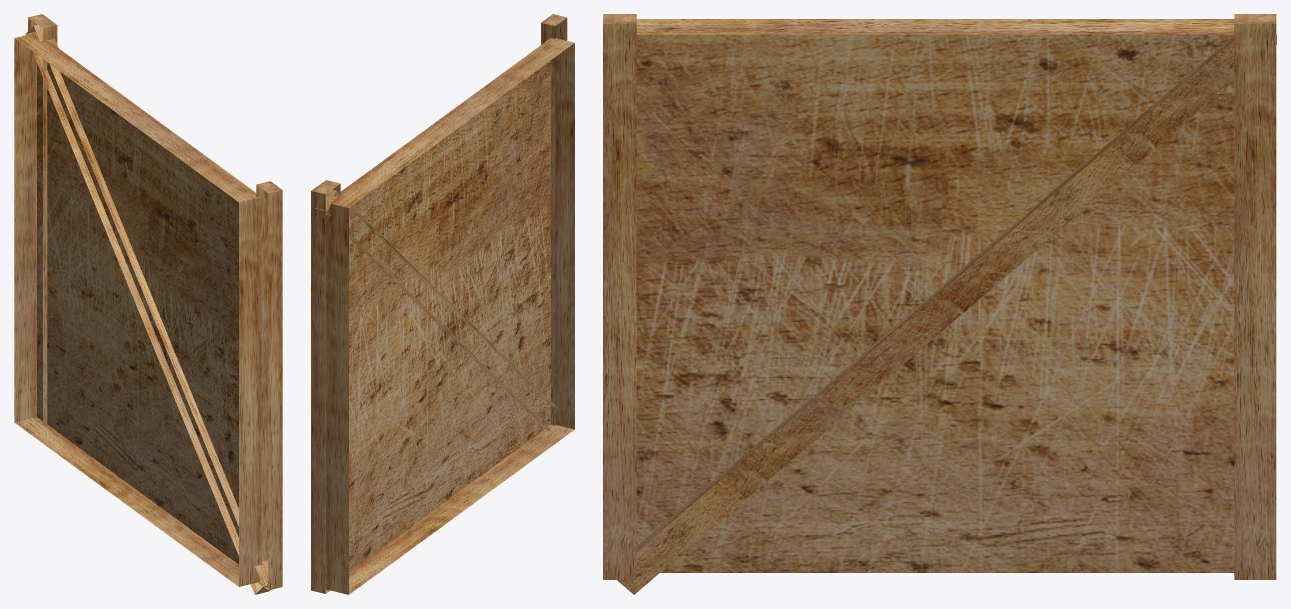
The model's file is WoodenFence.fbx.
The picture shows the model from 3 angles, left to right: view 1: azimuth 30°, elevation 25°; view 2: azimuth 150°, elevation 25°; view 3: azimuth 270°, elevation 25°; orthographic projection. The views are drawn at different scales.
Parts seen in each view (by area): view 1: WoodenFence; view 2: WoodenFence; view 3: WoodenFence.
Boxes of the visible parts, bbox=[...] form: WoodenFence: bbox=[14, 14, 282, 594]; WoodenFence: bbox=[311, 14, 574, 594]; WoodenFence: bbox=[603, 14, 1276, 594].
Size of the model in its own units: 0.7825 by 9.35 by 9.97.
